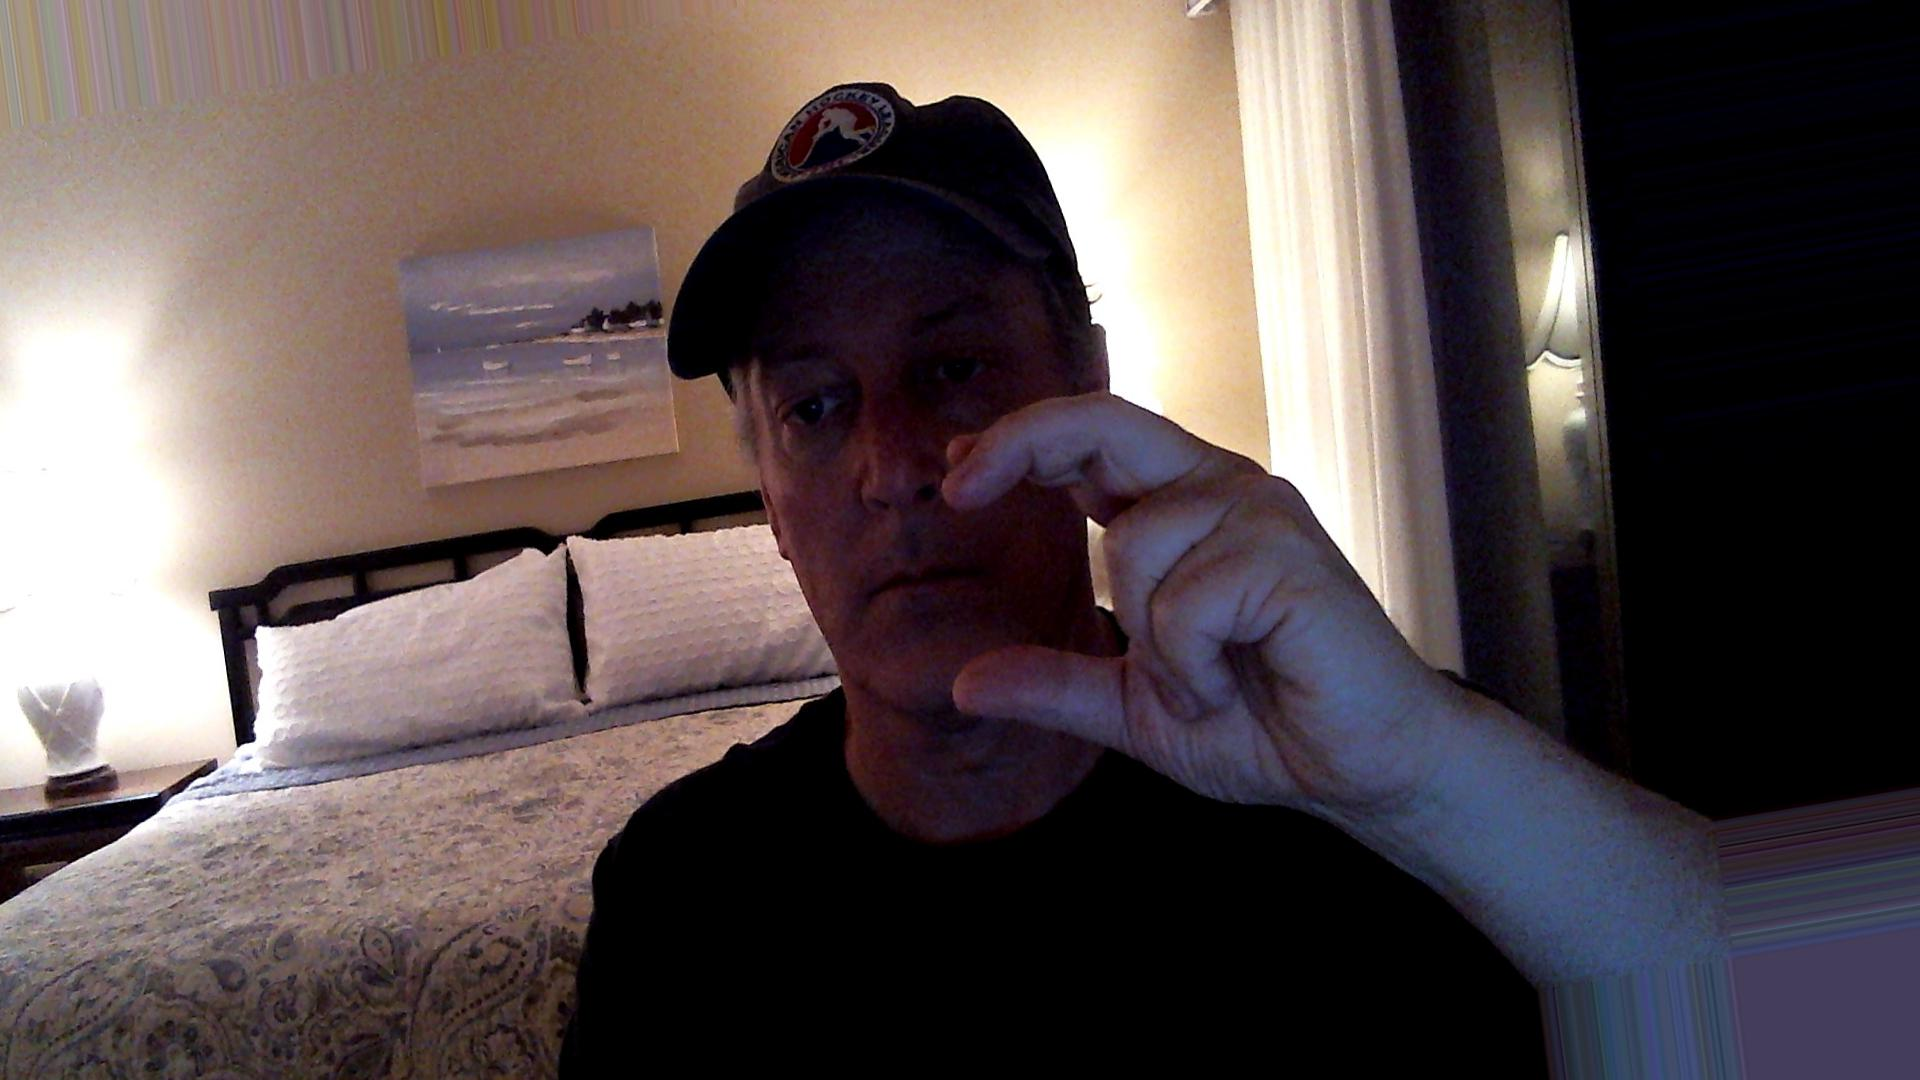No: (916, 382, 1455, 844)
